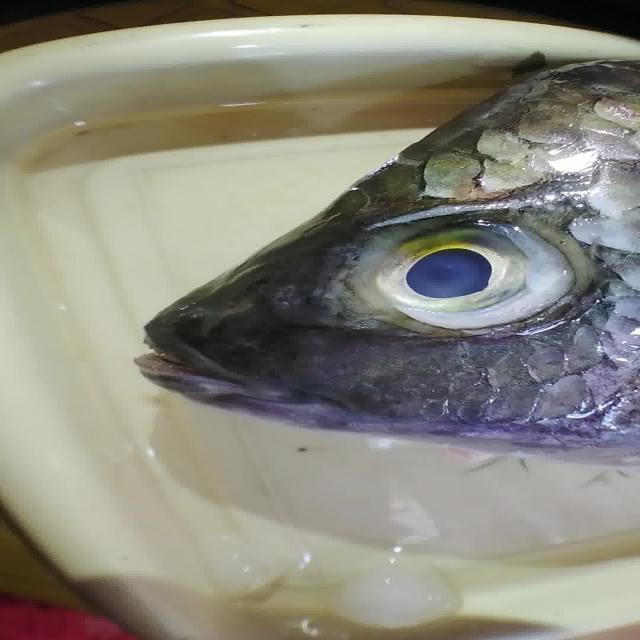Fresh: (302, 199, 597, 359)
